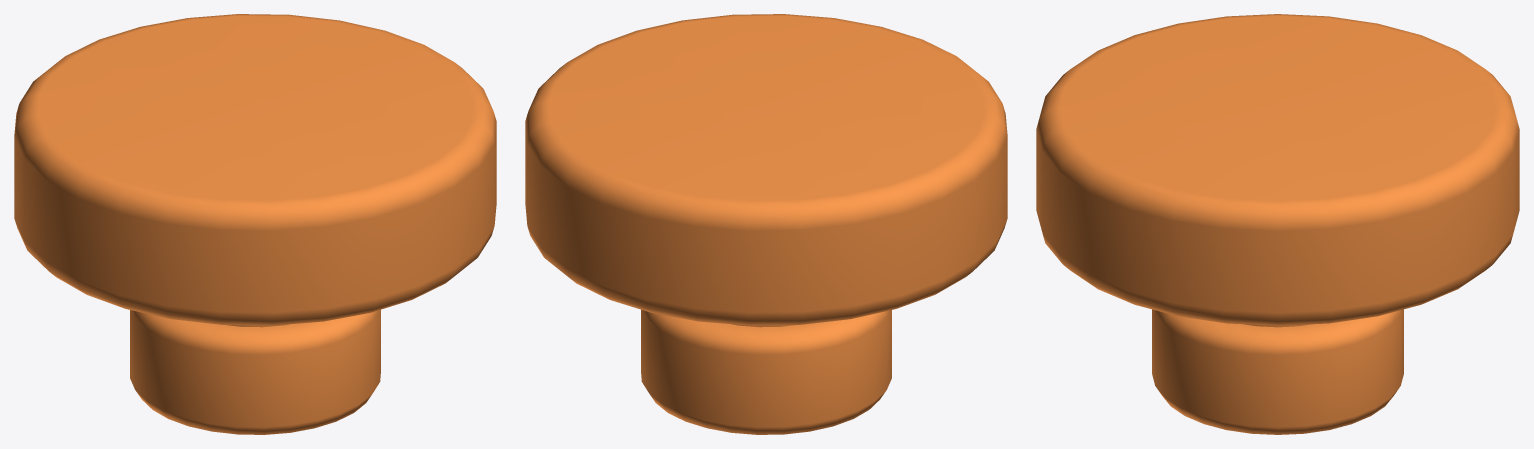
File: Chair_orange.glb
The picture shows the model from 3 angles, left to right: view 1: azimuth 30°, elevation 25°; view 2: azimuth 150°, elevation 25°; view 3: azimuth 270°, elevation 25°; orthographic projection.
Parts seen in each view (by area): view 1: Chair_5; view 2: Chair_5; view 3: Chair_5.
Part boxes in pixels (x1=…): Chair_5: x1=14, y1=14, x2=496, y2=434; Chair_5: x1=525, y1=14, x2=1007, y2=434; Chair_5: x1=1036, y1=14, x2=1519, y2=434.
Size of the model in its own units: 0.5912 by 0.3792 by 0.5912.
1 material, 1 textured.
